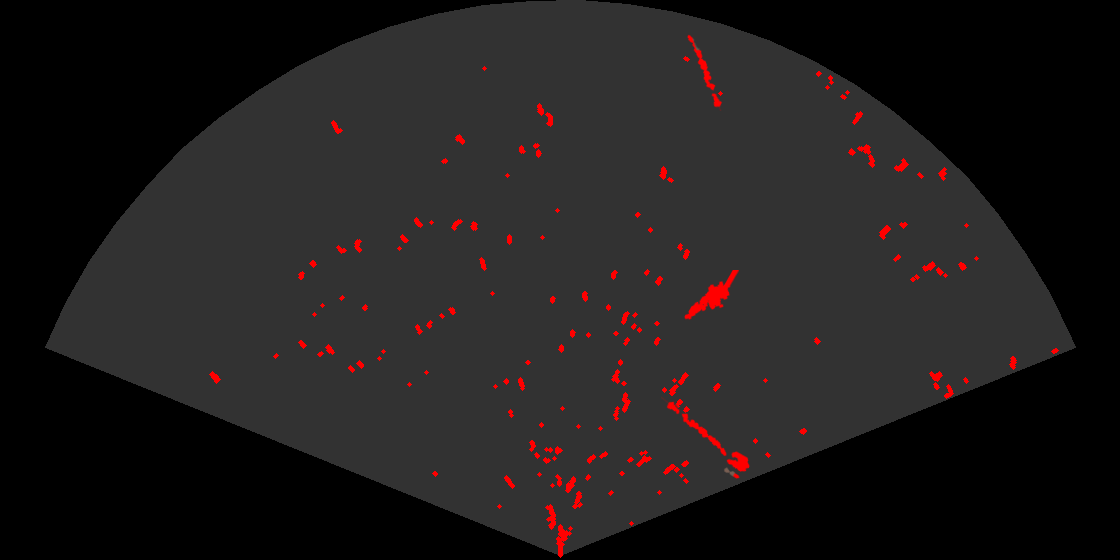ball: (723, 450, 751, 480)
chain: (661, 395, 728, 458), (686, 33, 724, 111)
frogman: (683, 270, 739, 321)
